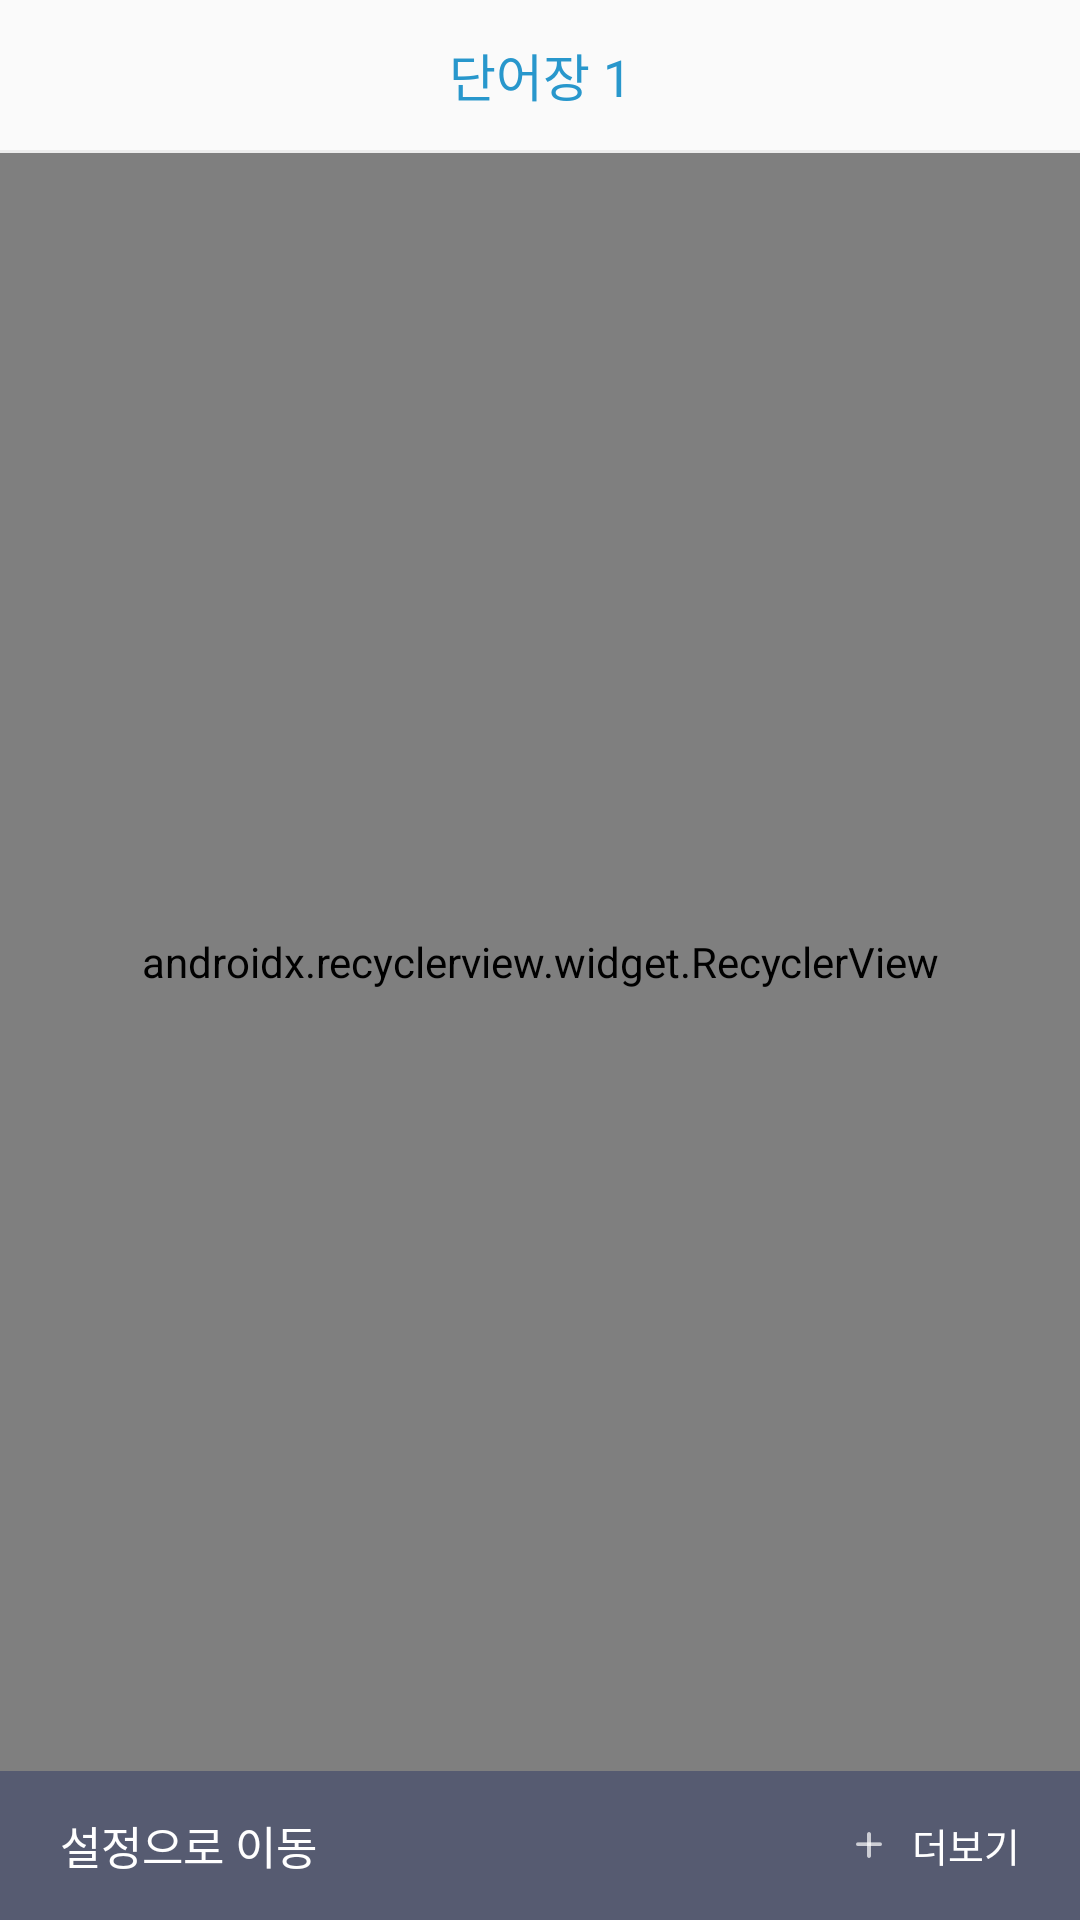

Screen size 1080x1920. Icon name, then its center in pixels as [x,y]:
mroe: [869,1845]
